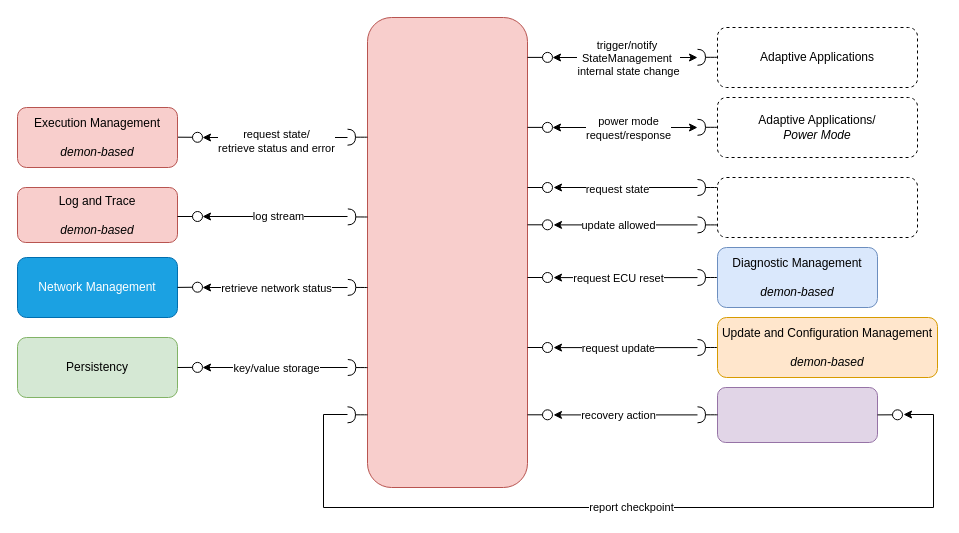
The diagram is 959 pixels wide and 533 high, and some of its shapes have lost their labels. The shapes that lost their labels are listed below. From the top down, each one's centre as x and y in pixels, then its label:
At [817,207]: "Adaptive Application/ SM Control Application".
At [447,252]: "State Management demon-based".
At [797,414]: "Platform Health Management demon-based".
